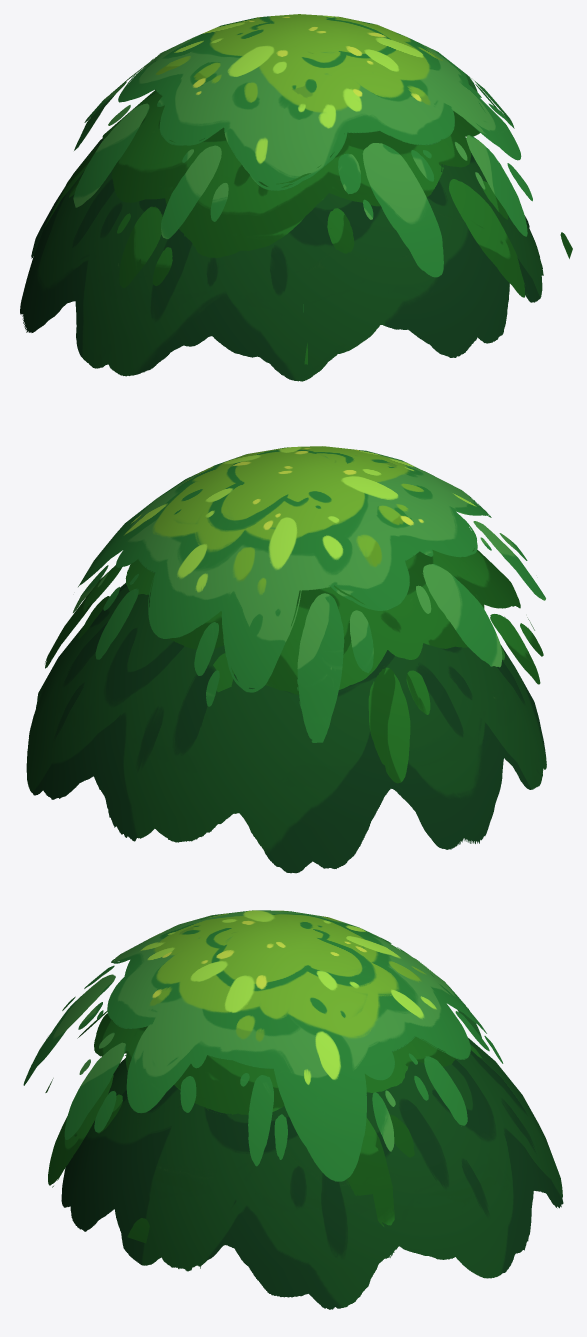
File: Bush.fbx
3 views of the same model, one above another, from view 1: azimuth 30°, elevation 25°; view 2: azimuth 150°, elevation 25°; view 3: azimuth 270°, elevation 25° (orthographic). The views are drawn at different scales.
Parts seen in each view (by area): view 1: Bottom, Top, Middle; view 2: Bottom, Top, Middle; view 3: Bottom, Top, Middle.
Boxes of the visible parts, left/top/right/bottom form: Bottom: left=20, top=138, right=543, bottom=381; Top: left=73, top=14, right=532, bottom=312; Middle: left=44, top=90, right=572, bottom=364; Bottom: left=26, top=583, right=546, bottom=873; Top: left=73, top=446, right=545, bottom=742; Middle: left=45, top=548, right=543, bottom=783; Bottom: left=61, top=1038, right=563, bottom=1309; Top: left=23, top=910, right=503, bottom=1181; Middle: left=45, top=1011, right=482, bottom=1243.
Bounding box in the file's own units: 65.58 × 37.65 × 69.34.
